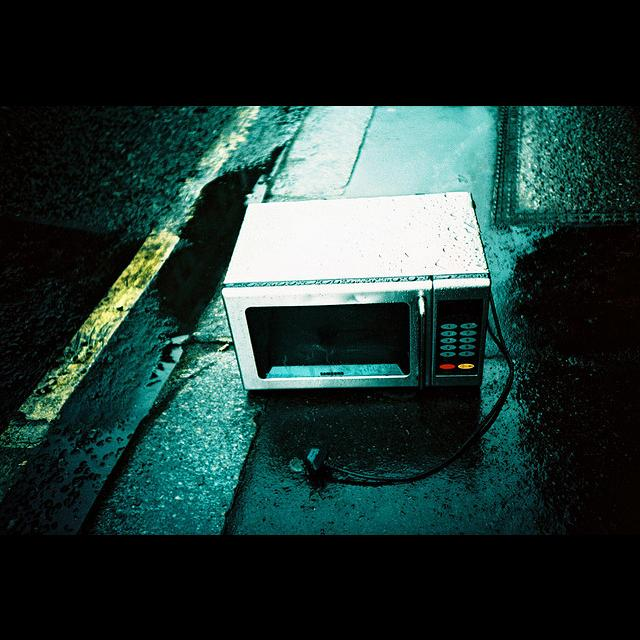Microwave: (224, 189, 492, 395)
